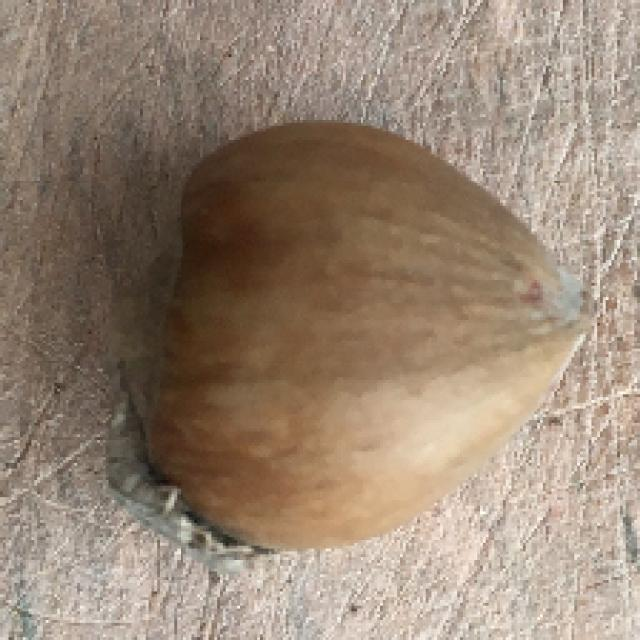damagedHazelnut: (109, 118, 586, 556)
